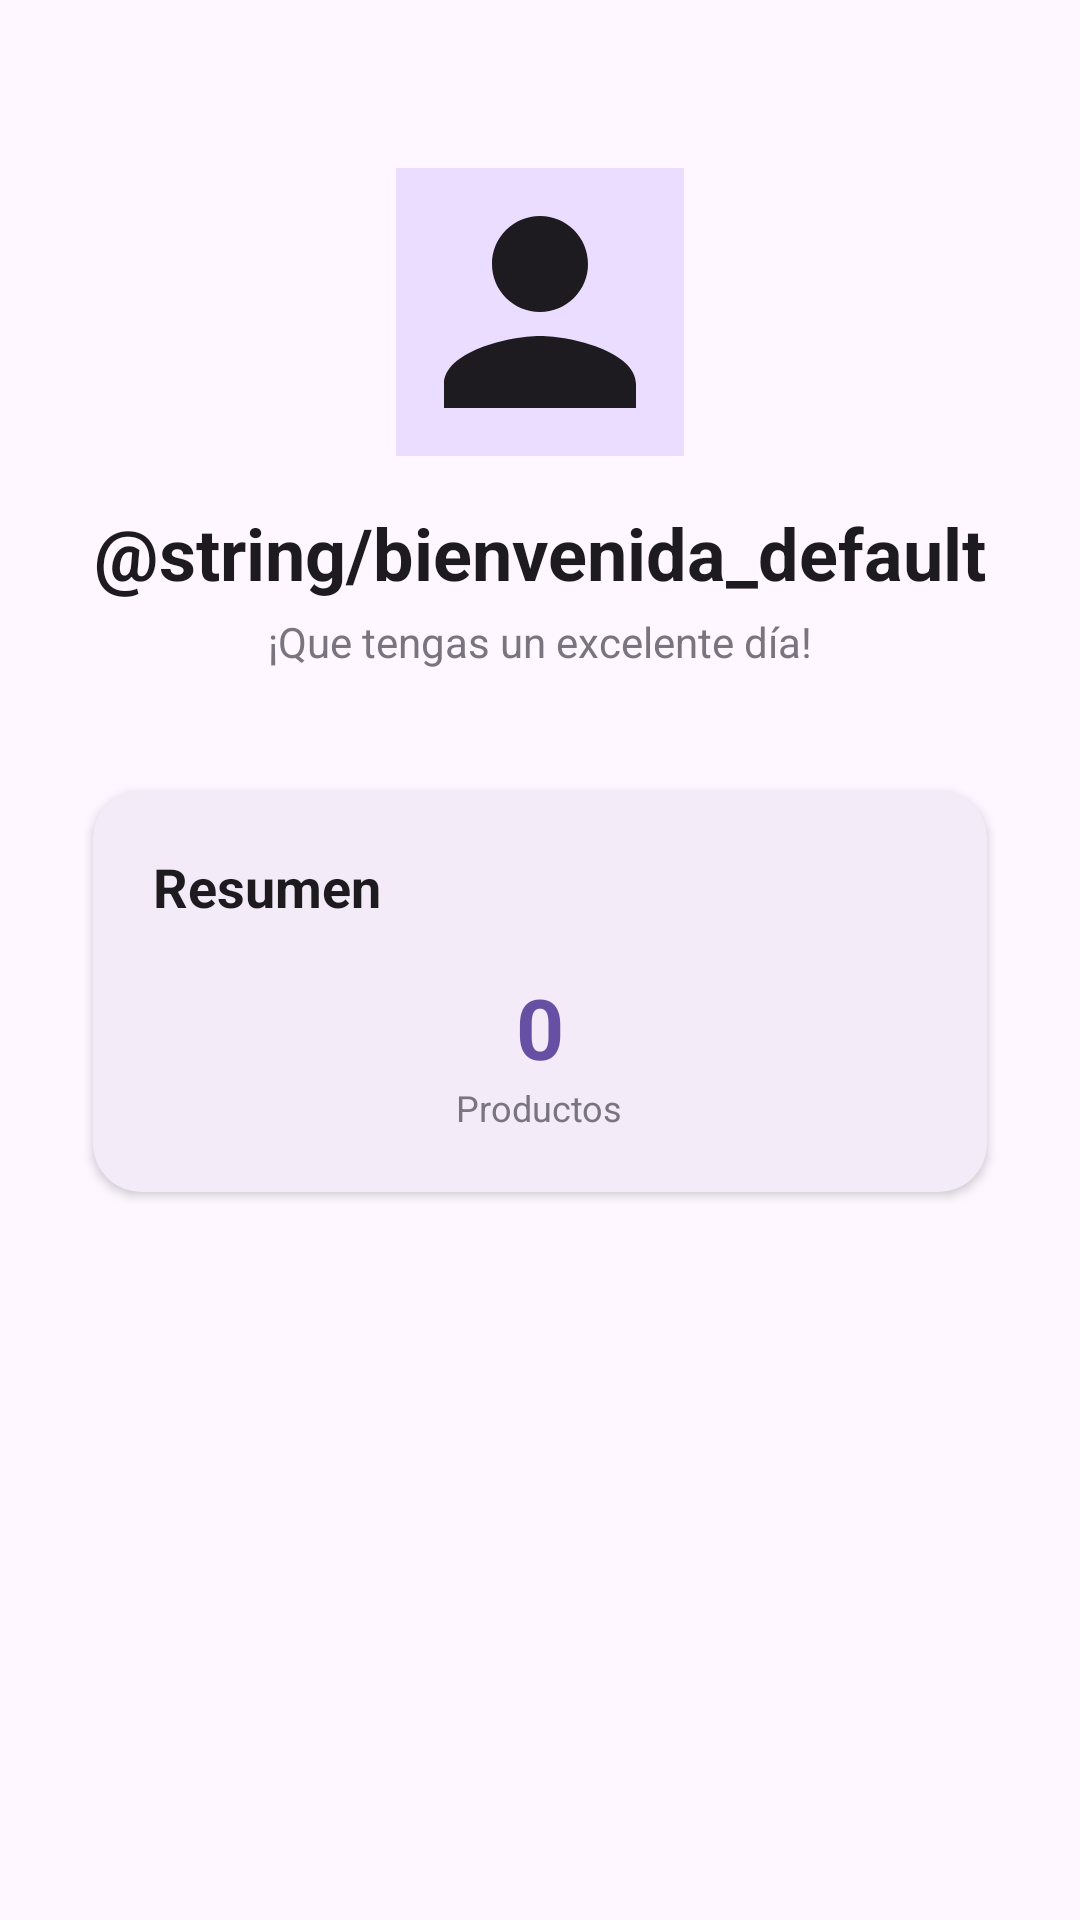

Locate icon controls on the screen. Image size 1080 × 1920, boxes as (x1, y1, x2, y2).
person: (396, 168, 684, 456)
